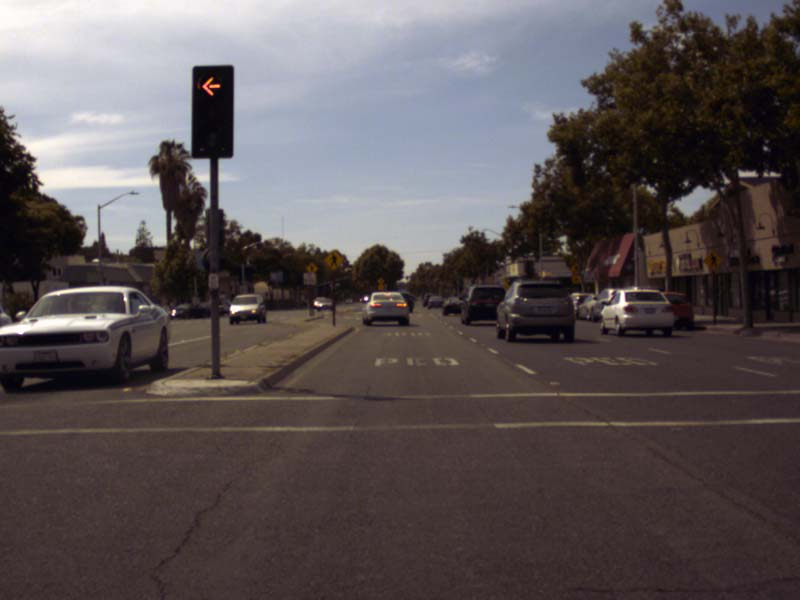Red: (191, 64, 233, 157)
